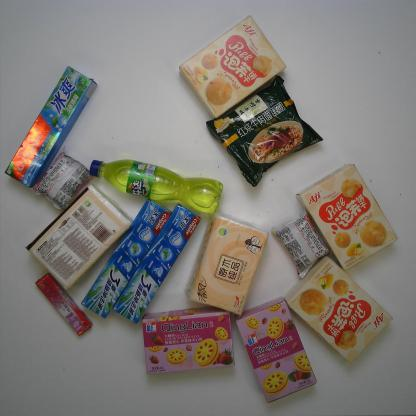Candy: (38, 272, 92, 342)
Dessert: (179, 15, 290, 118), (287, 256, 392, 364), (301, 166, 401, 270), (229, 297, 319, 403), (144, 312, 235, 370), (271, 210, 334, 279), (34, 154, 87, 206)
Drink: (85, 158, 233, 216)
Instant Noodles: (206, 78, 322, 182)
Personal Hygiene: (82, 200, 172, 324), (6, 63, 96, 185), (112, 206, 202, 324)
Tissue: (26, 188, 128, 288), (186, 218, 273, 320)
